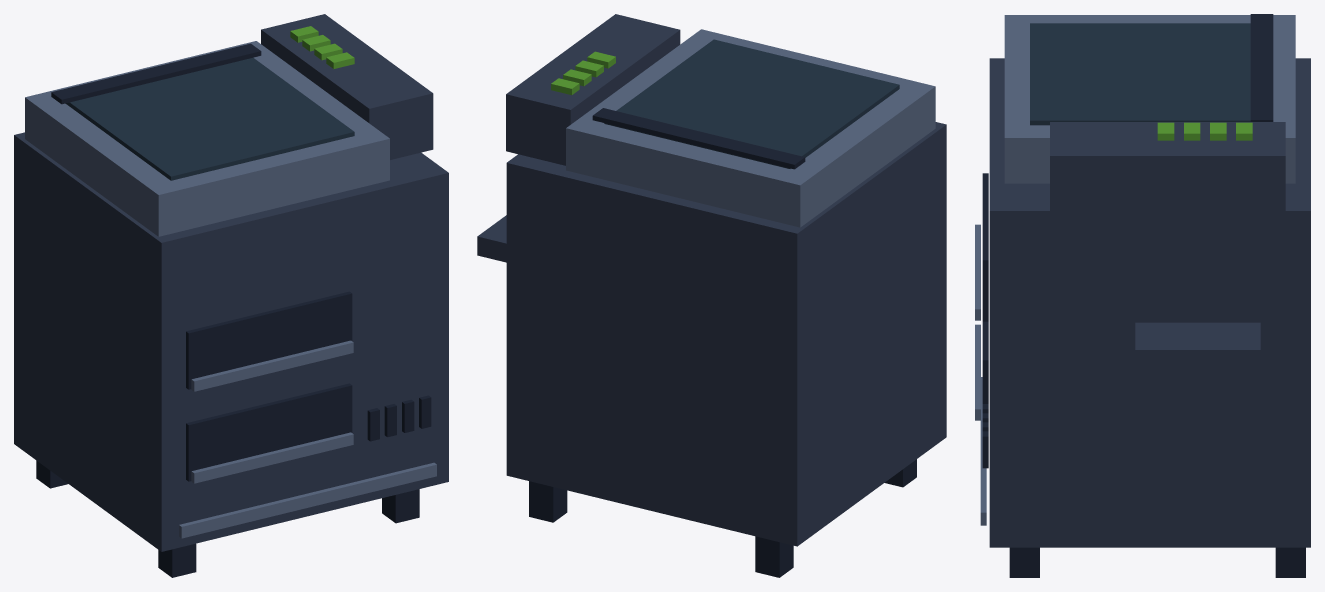
The model's file is CMU3DPhotocopierPro.glb.
The picture shows the model from 3 angles, left to right: view 1: azimuth 30°, elevation 25°; view 2: azimuth 150°, elevation 25°; view 3: azimuth 270°, elevation 25°; orthographic projection. The views are drawn at different scales.
Visible parts, largest first — view 1: copier cabinet, scanner frame, scanner glass, paper cassette recess (×2), raised control side, cassette bottom lip (×2), bottom front molding, scanner back seal, copier foot (×2); view 2: copier cabinet, scanner frame, scanner glass, raised control side, scanner back seal, copier foot (×2), side output shelf; view 3: copier cabinet, scanner glass, raised control side, scanner frame, side output shelf, scanner back seal, copier foot (×2), paper cassette recess (×2), cassette bottom lip (×2), bottom front molding.
Boxes of the visible parts, bbox=[...] form: copier cabinet: bbox=[14, 132, 448, 551]; scanner frame: bbox=[25, 41, 389, 236]; scanner glass: bbox=[65, 58, 354, 180]; paper cassette recess (×2): bbox=[186, 291, 352, 481]; raised control side: bbox=[261, 14, 433, 159]; cassette bottom lip (×2): bbox=[191, 340, 353, 483]; bottom front molding: bbox=[179, 462, 436, 538]; scanner back seal: bbox=[51, 43, 261, 104]; copier foot (×2): bbox=[158, 489, 419, 577]; copier cabinet: bbox=[506, 122, 946, 546]; scanner frame: bbox=[566, 29, 935, 227]; scanner glass: bbox=[604, 39, 899, 168]; raised control side: bbox=[506, 14, 680, 165]; scanner back seal: bbox=[592, 108, 805, 169]; copier foot (×2): bbox=[529, 481, 793, 577]; side output shelf: bbox=[477, 215, 506, 262]; copier cabinet: bbox=[989, 58, 1310, 547]; scanner glass: bbox=[1030, 23, 1250, 125]; raised control side: bbox=[1050, 122, 1285, 217]; scanner frame: bbox=[1004, 15, 1295, 183]; side output shelf: bbox=[1135, 322, 1260, 370]; scanner back seal: bbox=[1250, 14, 1273, 121]; copier foot (×2): bbox=[1009, 547, 1305, 577]; paper cassette recess (×2): bbox=[982, 173, 988, 403]; cassette bottom lip (×2): bbox=[975, 224, 980, 420]; bottom front molding: bbox=[980, 377, 986, 525].
Bounding box in the file's own units: 0.85 × 0.98 × 0.669.
